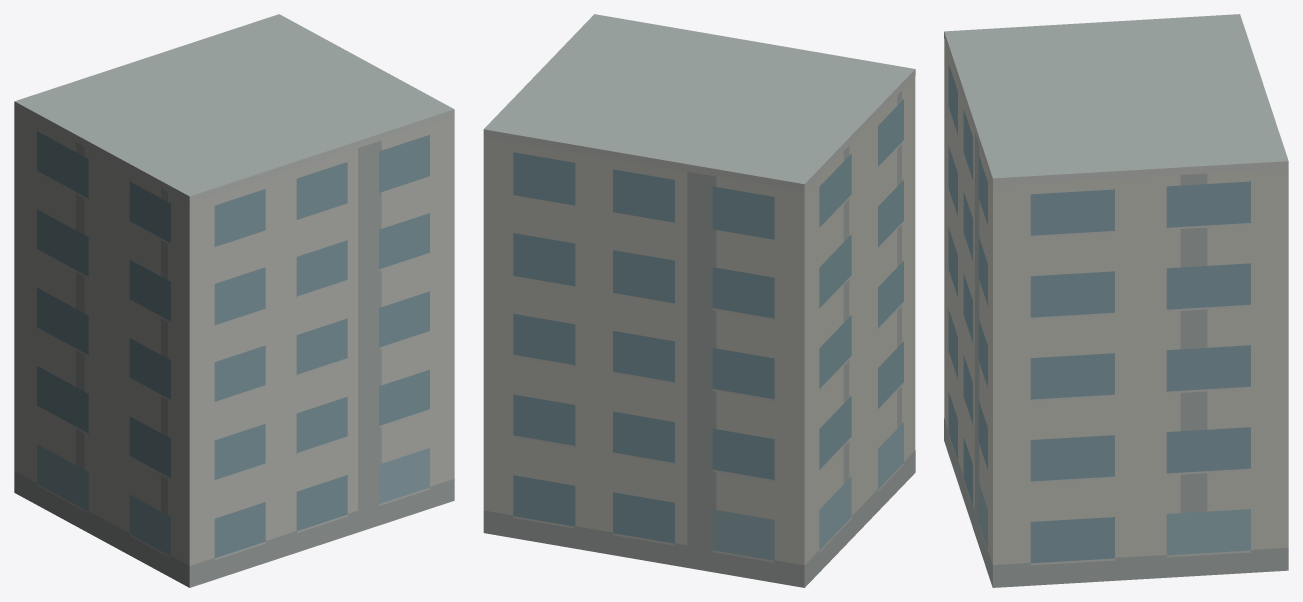
Rendered from survey-upis-32611701.glb.
The picture shows the model from 3 angles, left to right: view 1: azimuth 30°, elevation 25°; view 2: azimuth 150°, elevation 25°; view 3: azimuth 270°, elevation 25°; orthographic projection. The views are drawn at different scales.
Visible parts, largest first — view 1: survey-upis-32611701.tmp; view 2: survey-upis-32611701.tmp; view 3: survey-upis-32611701.tmp.
Part boxes in pixels (x1=…): survey-upis-32611701.tmp: x1=14, y1=14, x2=454, y2=587; survey-upis-32611701.tmp: x1=483, y1=14, x2=915, y2=587; survey-upis-32611701.tmp: x1=944, y1=14, x2=1288, y2=587.
Bounding box in the file's own units: 11.37 × 13.2 × 10.07.
